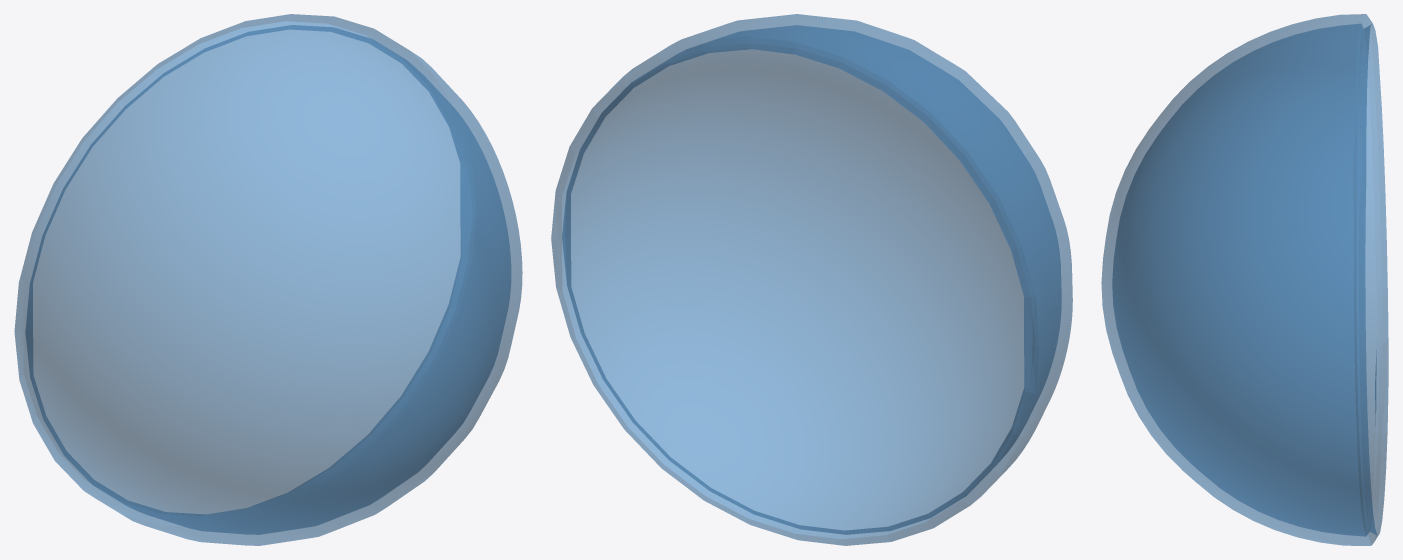
The model's file is SFERA.FBX.
3 views of the same model, side by side, from view 1: azimuth 30°, elevation 25°; view 2: azimuth 150°, elevation 25°; view 3: azimuth 270°, elevation 25° (orthographic). The views are drawn at different scales.
Parts seen in each view (by area): view 1: Sphere004; view 2: Sphere004; view 3: Sphere004.
Part boxes in pixels (left/top/right/bottom): Sphere004: left=14, top=14, right=522, bottom=545; Sphere004: left=551, top=14, right=1072, bottom=545; Sphere004: left=1101, top=14, right=1388, bottom=545.
Bounding box in the file's own units: 86.39 × 86.73 × 46.76.
